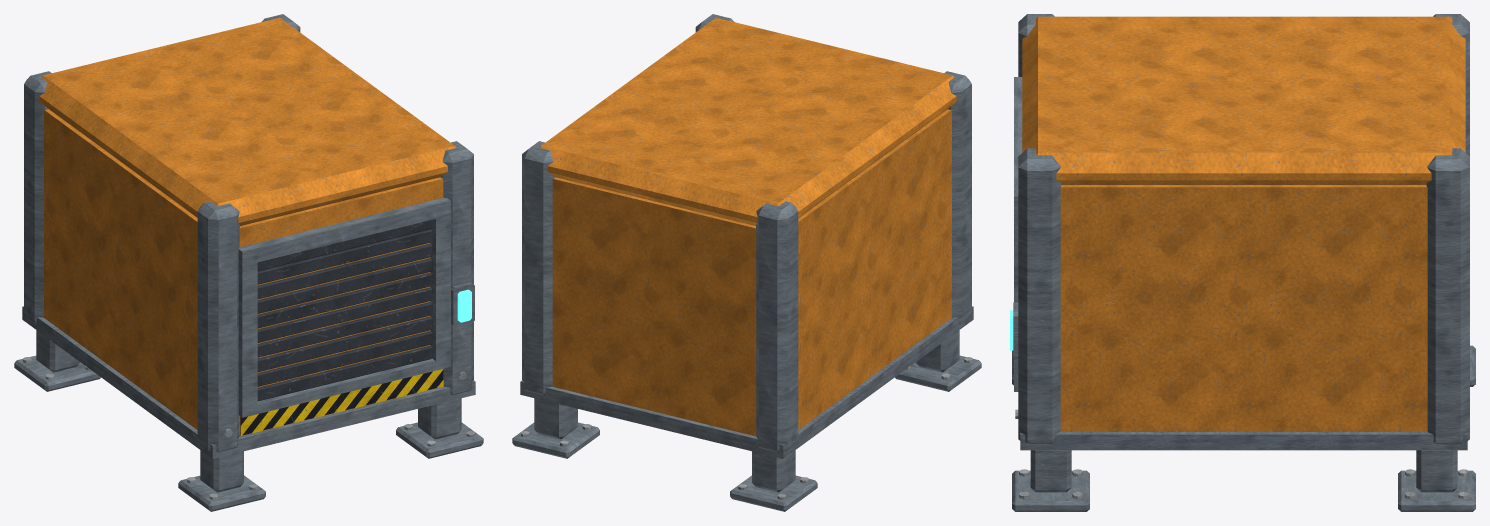
File: base_room.glb
The picture shows the model from 3 angles, left to right: view 1: azimuth 30°, elevation 25°; view 2: azimuth 150°, elevation 25°; view 3: azimuth 270°, elevation 25°; orthographic projection. The views are drawn at different scales.
Parts seen in each view (by area): view 1: BaseRoom_Orange, BaseRoom_SteelGrey, BaseRoom_Shutter_DarkGrey, BaseRoom_Yellow, BaseRoom_Black, BaseRoom_SteelLight; view 2: BaseRoom_Orange, BaseRoom_SteelGrey; view 3: BaseRoom_Orange, BaseRoom_SteelGrey, BaseRoom_SteelLight.
Part boxes in pixels (<box>): BaseRoom_Orange: <box>39,17,456,436</box>; BaseRoom_SteelGrey: <box>14,14,483,511</box>; BaseRoom_Shutter_DarkGrey: <box>257,219,433,401</box>; BaseRoom_Yellow: <box>240,369,443,435</box>; BaseRoom_Black: <box>240,370,443,435</box>; BaseRoom_SteelLight: <box>23,357,474,499</box>; BaseRoom_Orange: <box>539,17,956,436</box>; BaseRoom_SteelGrey: <box>512,14,981,511</box>; BaseRoom_Orange: <box>1022,16,1465,431</box>; BaseRoom_SteelGrey: <box>1012,14,1475,511</box>; BaseRoom_SteelLight: <box>1015,409,1468,499</box>.
Bounding box in the file's own units: 9.1 × 9.4 × 11.35.
7 materials, 6 textured.
